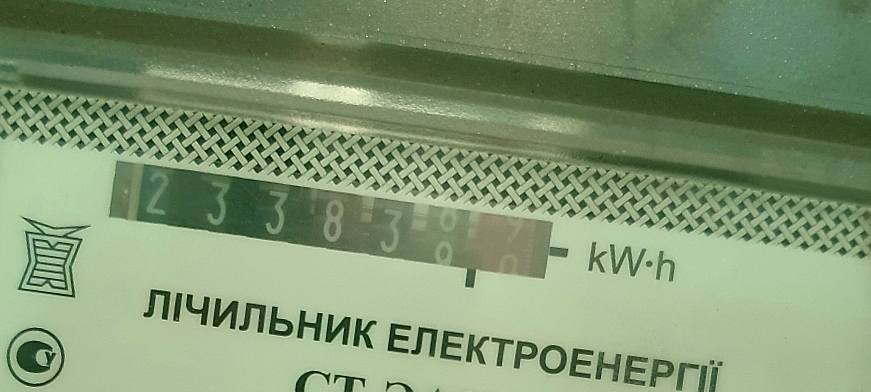0: (494, 248, 523, 276)
2: (140, 165, 174, 217)
3: (200, 176, 234, 228), (261, 186, 291, 239), (375, 203, 406, 254)
8: (318, 195, 348, 243), (433, 204, 464, 234)
9: (428, 235, 458, 267), (499, 213, 527, 244)
screen: (92, 146, 572, 301)
